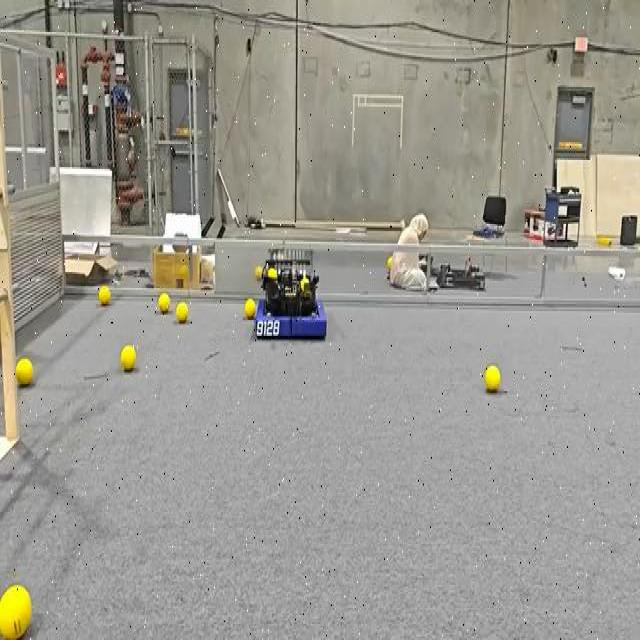Fuel: (0, 585, 31, 638), (16, 358, 33, 386), (16, 357, 32, 386), (120, 344, 136, 372), (484, 365, 500, 391), (120, 345, 135, 370), (176, 301, 188, 323), (98, 286, 111, 306), (244, 298, 256, 319), (98, 284, 110, 304), (158, 293, 170, 313), (175, 302, 187, 322), (244, 299, 256, 318), (267, 267, 277, 277), (254, 267, 262, 279), (386, 256, 391, 268)
